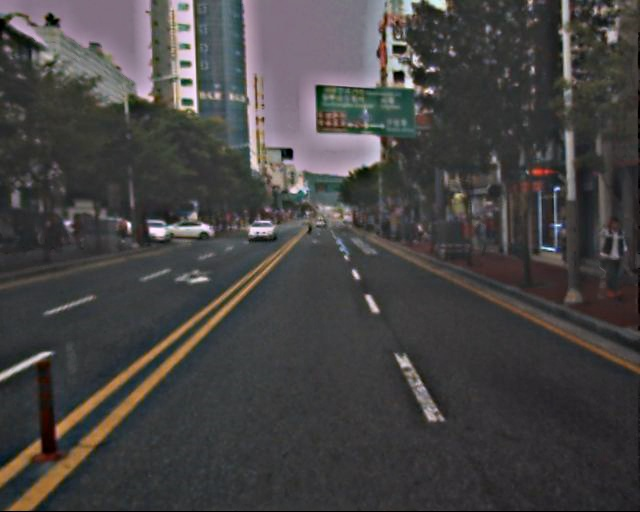person: (584, 217, 628, 302), (474, 213, 494, 257)
